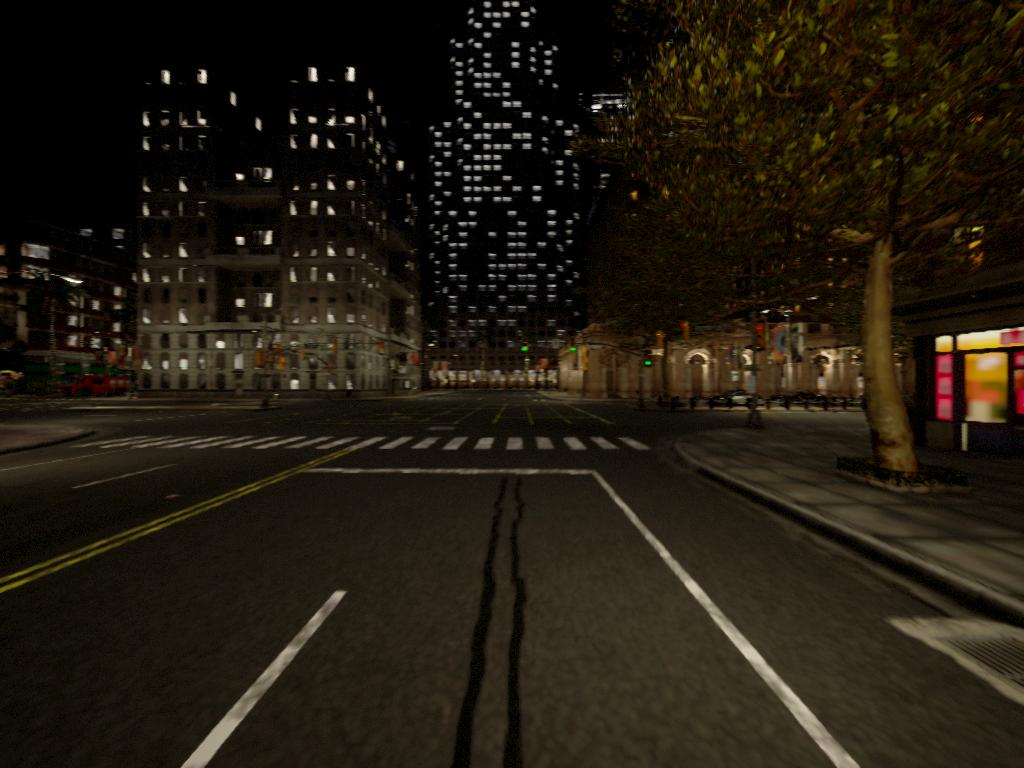traffic_light: (755, 323, 767, 353), (680, 322, 691, 342), (520, 337, 531, 355), (644, 356, 658, 370), (569, 338, 578, 354)
